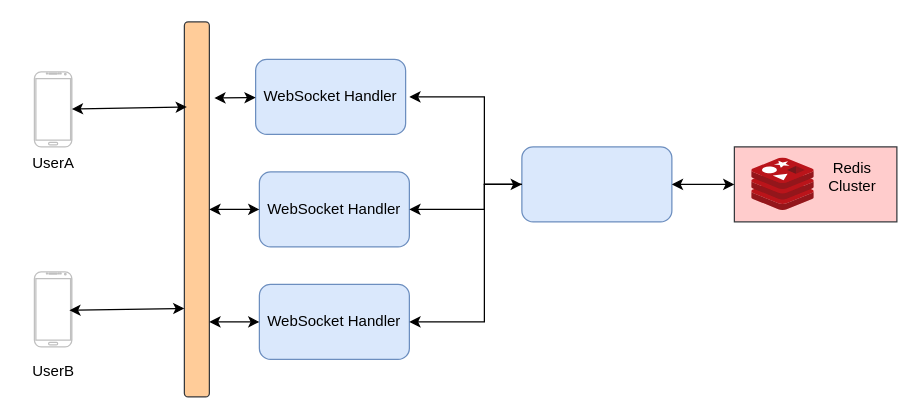
Image size: 919x419. Some labels were removed from this diagram. The box of each missing label's shape, as (x1, y1, x2, y2) in pixels:
LB: (183, 21, 209, 397)
WebSocket Manager: (521, 146, 672, 222)
